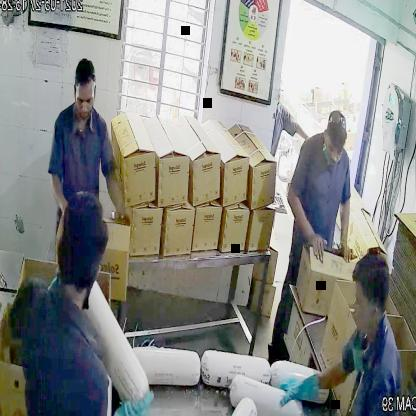no_goggles: (320, 138, 351, 163), (72, 88, 98, 112)
